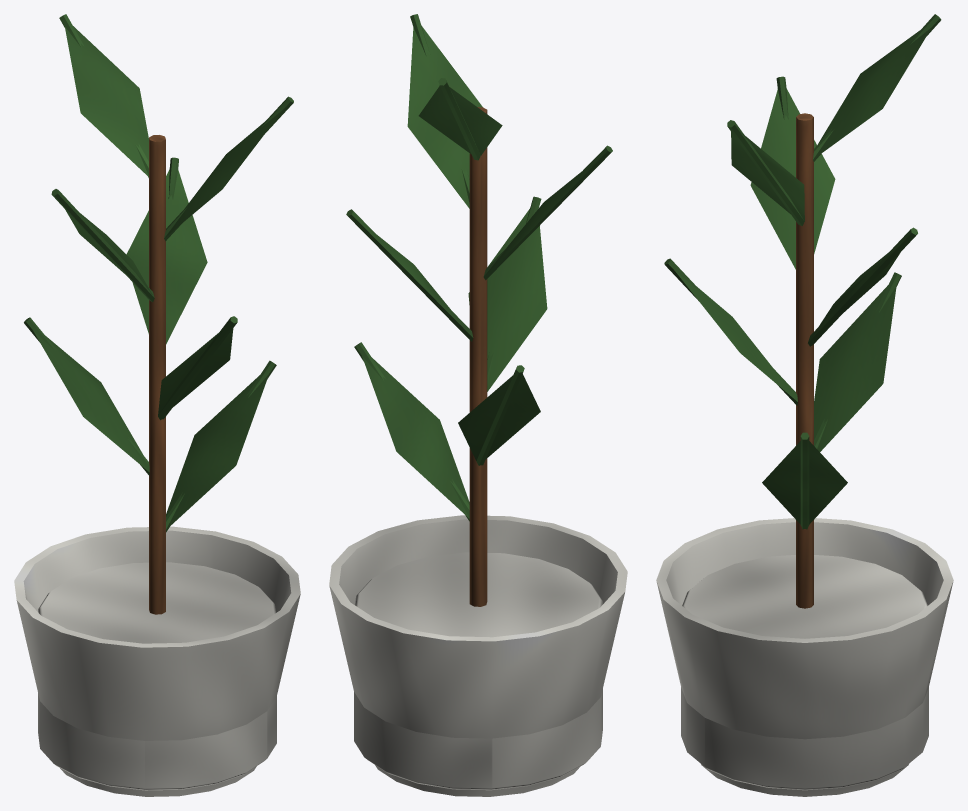
File: Furn_Bath_PlantPot.fbx
3 views of the same model, side by side, from view 1: azimuth 30°, elevation 25°; view 2: azimuth 150°, elevation 25°; view 3: azimuth 270°, elevation 25° (orthographic). The views are drawn at different scales.
Visible parts, largest first — view 1: Furn_Bath_PlantPot; view 2: Furn_Bath_PlantPot; view 3: Furn_Bath_PlantPot.
Part boxes in pixels (bbox=[...]): Furn_Bath_PlantPot: bbox=[14, 14, 300, 796]; Furn_Bath_PlantPot: bbox=[329, 14, 627, 796]; Furn_Bath_PlantPot: bbox=[656, 14, 953, 796].
Bounding box in the file's own units: 0.6 × 1.61 × 0.6.
Materials: 3 (3 with a texture image).
